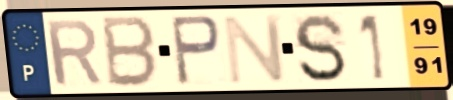1: (356, 12, 388, 82)
B: (101, 14, 160, 90)
N: (221, 12, 289, 86)
P: (168, 13, 225, 88)
R: (42, 17, 106, 89)
S: (291, 11, 350, 85)
